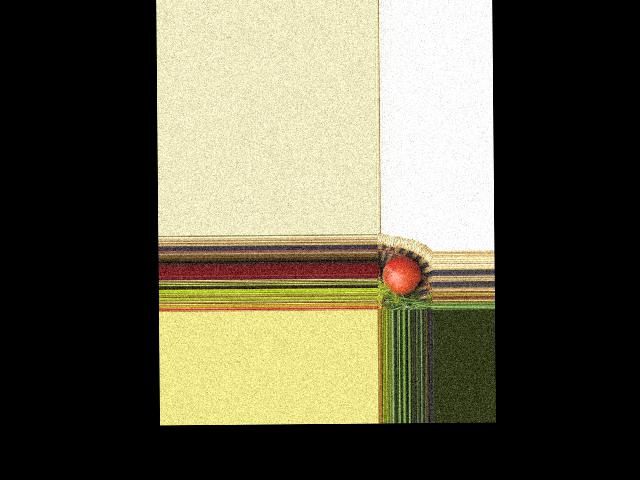tomato: (382, 256, 420, 295)
